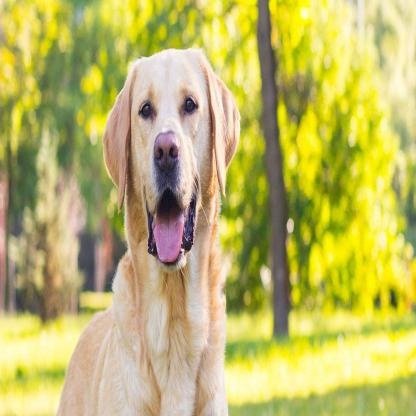dog: (57, 38, 241, 416)
